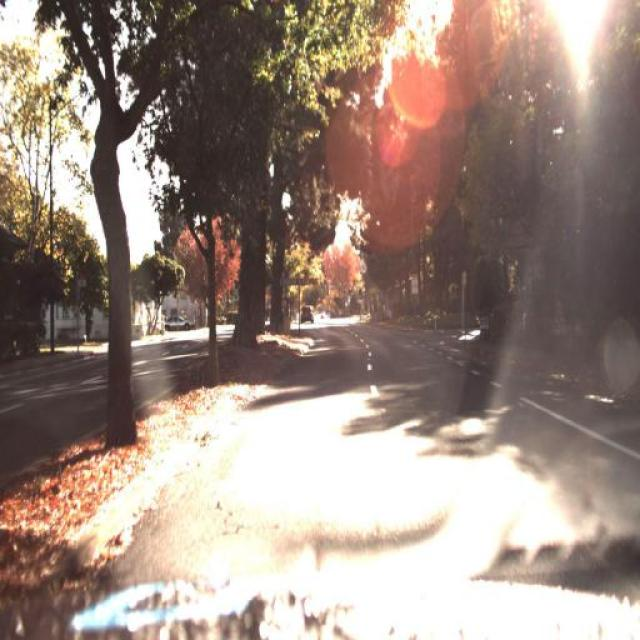car: (160, 311, 194, 334), (301, 302, 315, 328)
trafficLight-Green: (352, 285, 367, 306)
